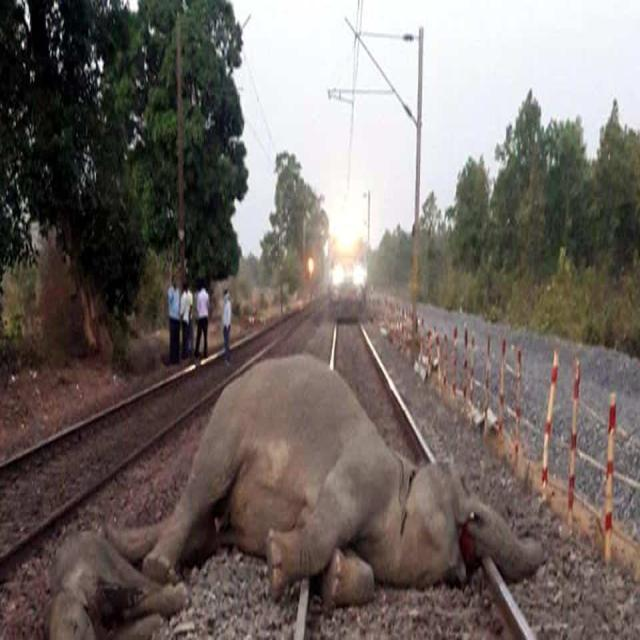Elephant: (182, 344, 545, 609), (37, 512, 157, 640)
